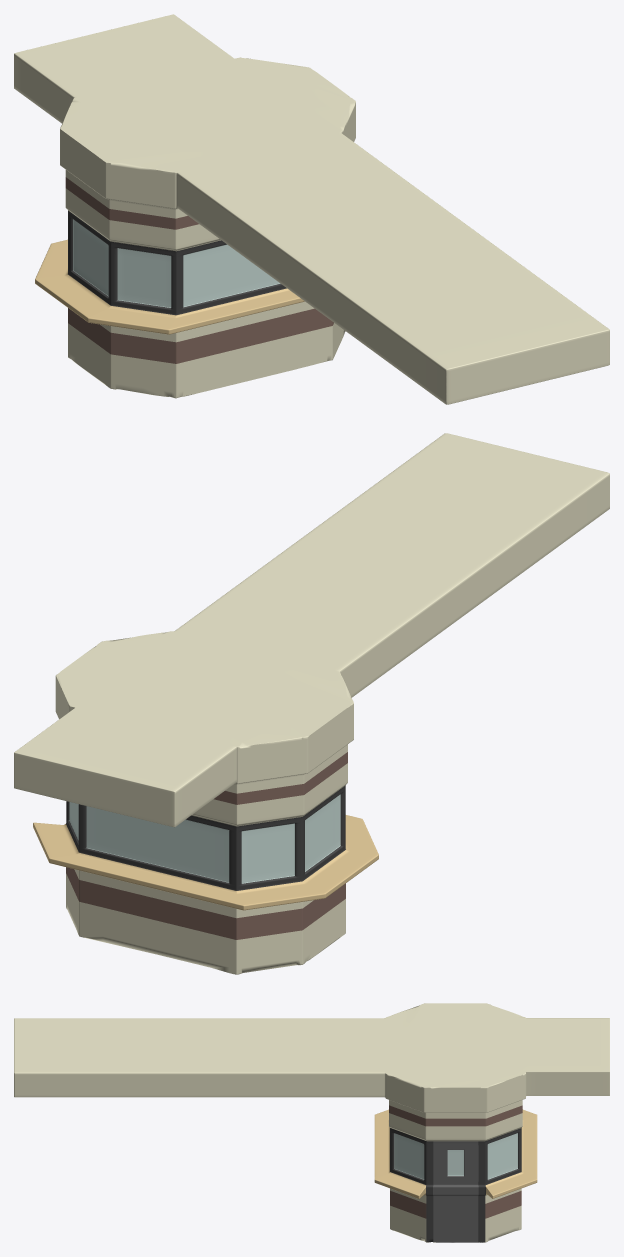
Rendered from Ticketing.fbx.
The picture shows the model from 3 angles, top to bottom: view 1: azimuth 30°, elevation 25°; view 2: azimuth 150°, elevation 25°; view 3: azimuth 270°, elevation 25°; orthographic projection. The views are drawn at different scales.
Parts seen in each view (by area): view 1: Ticketing; view 2: Ticketing; view 3: Ticketing.
Boxes of the visible parts, x1=… form: Ticketing: x1=14, y1=14, x2=609, y2=404; Ticketing: x1=14, y1=433, x2=609, y2=974; Ticketing: x1=14, y1=1003, x2=609, y2=1242.
Size of the model in its own units: 618 by 467 by 1598.
